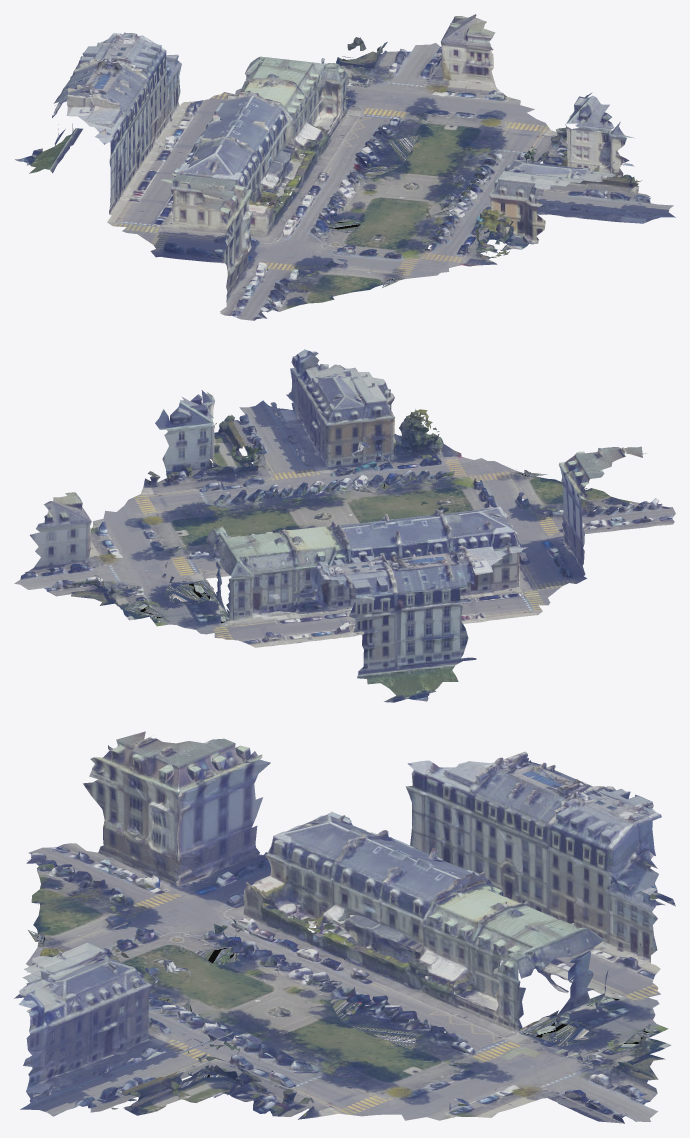
3 views of the same model, one above another, from view 1: azimuth 30°, elevation 25°; view 2: azimuth 150°, elevation 25°; view 3: azimuth 270°, elevation 25° (orthographic). The views are drawn at different scales.
Size of the model in its own units: 108 by 26.37 by 108.
Materials: 1 (1 with a texture image).
